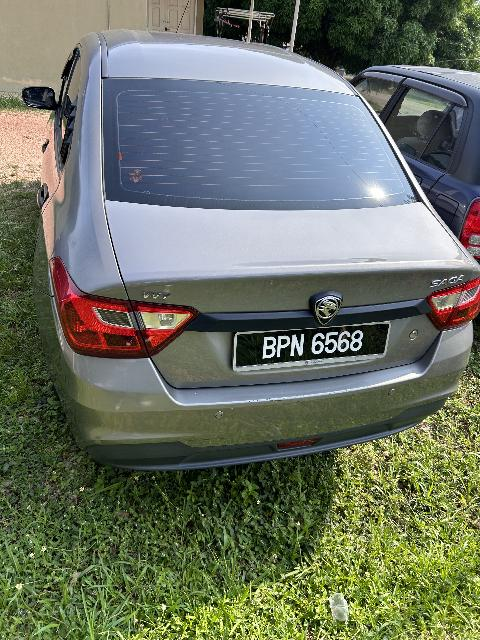License_Plate: (233, 325, 395, 378)
car: (25, 20, 480, 480)
